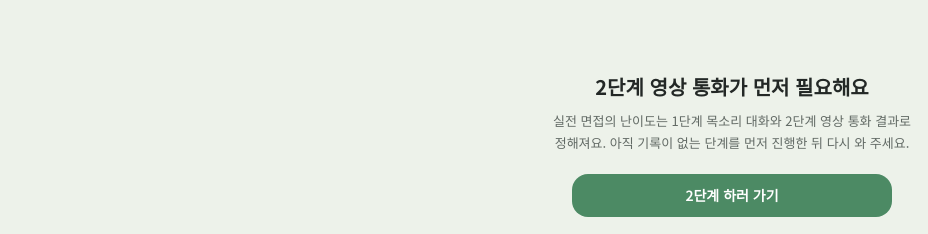
Scenario: NeedStagesView › 2단계만 없으면 2단계 안내와 이동 버튼만 보여주고, 누르면 /face로 이동한다
Expected: the text "2단계 영상 통화가 먼저 필요해요" is shown, [595,72,869,101]
Click the button "2단계 하러 가기".
click(732, 196)  # box [572,174,892,217]
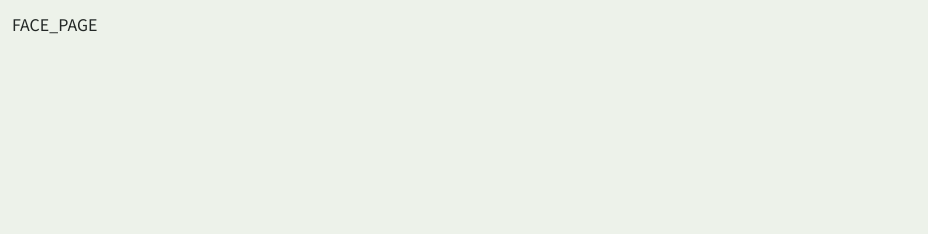
Result: the text "FACE_PAGE" is shown at [12,12,97,36]
